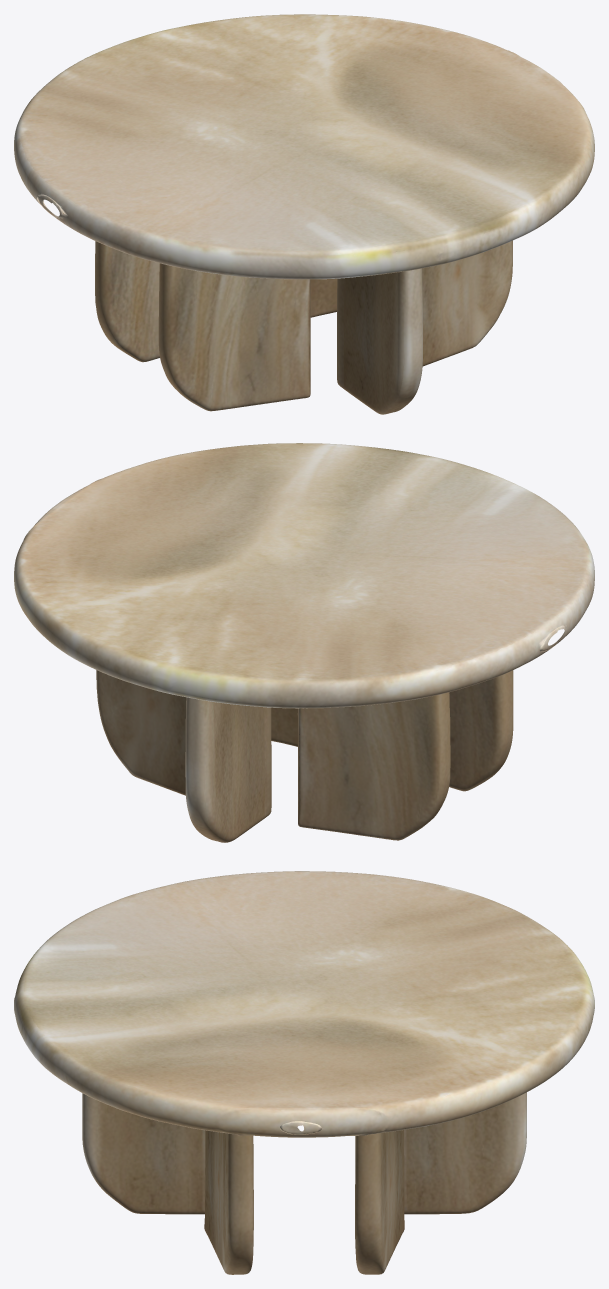
The model's file is product-bohemian-patrizia-concrete-round-coffee-table-02.glb.
3 renders of one model, top to bottom at view 1: azimuth 30°, elevation 25°; view 2: azimuth 150°, elevation 25°; view 3: azimuth 270°, elevation 25°, orthographic.
Parts seen in each view (by area): view 1: geometry_0; view 2: geometry_0; view 3: geometry_0.
Boxes of the visible parts, <box> form: geometry_0: <box>14,14,594,414</box>; geometry_0: <box>14,443,594,842</box>; geometry_0: <box>14,871,594,1274</box>.
Bounding box in the file's own units: 1.99 × 0.8277 × 1.97.
Materials: 1 (1 with a texture image).
